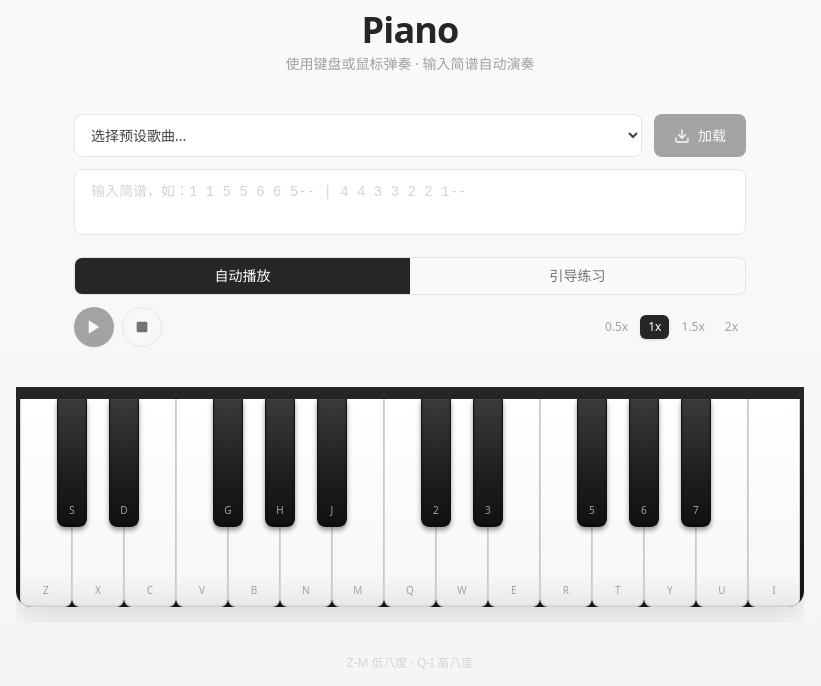
Test: 集成测试 › 输入简谱 → 加载 → 显示播放控制
In the text box with placeholder "输入简谱，如：1 1 5 5 6 6 5-- | 4 4 3 3 2 2 1--": (410, 202) [74, 169, 746, 235], type "1 2 3"
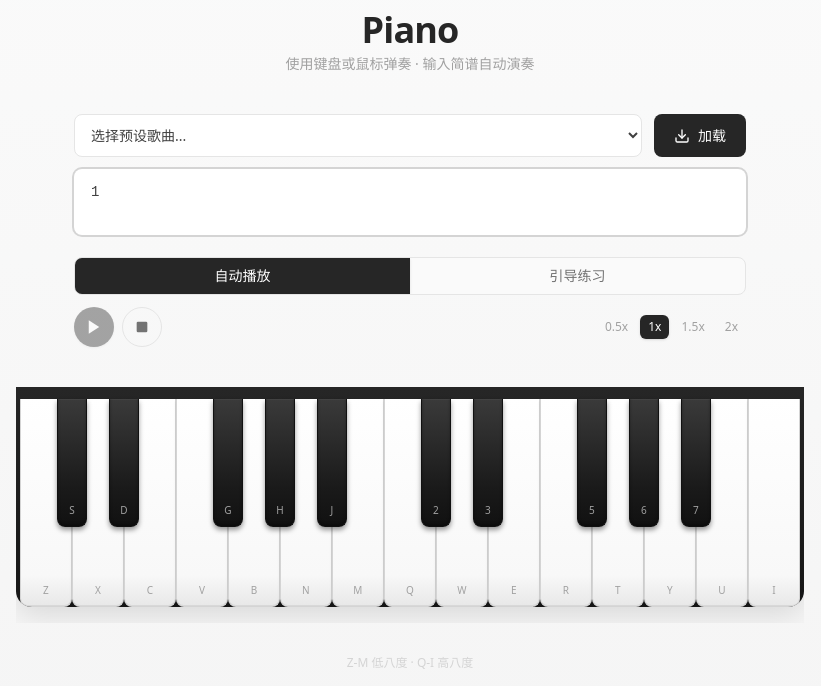
Click the button "加载": (700, 136) [654, 114, 746, 157]
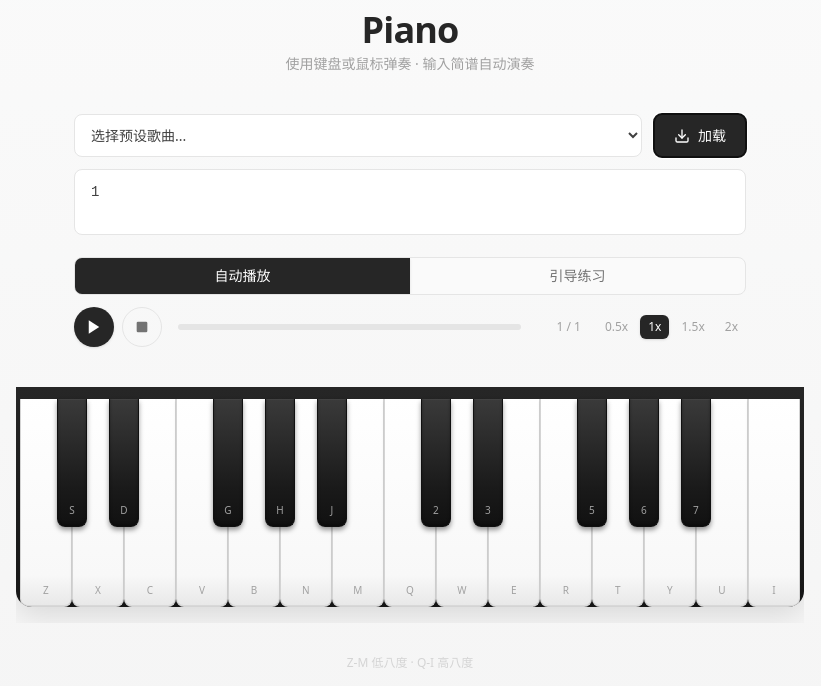
Expected: the button named "播放" is enabled, [74, 307, 114, 347]
